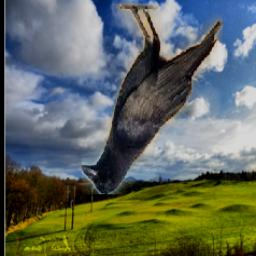Crow: (81, 3, 222, 194)
